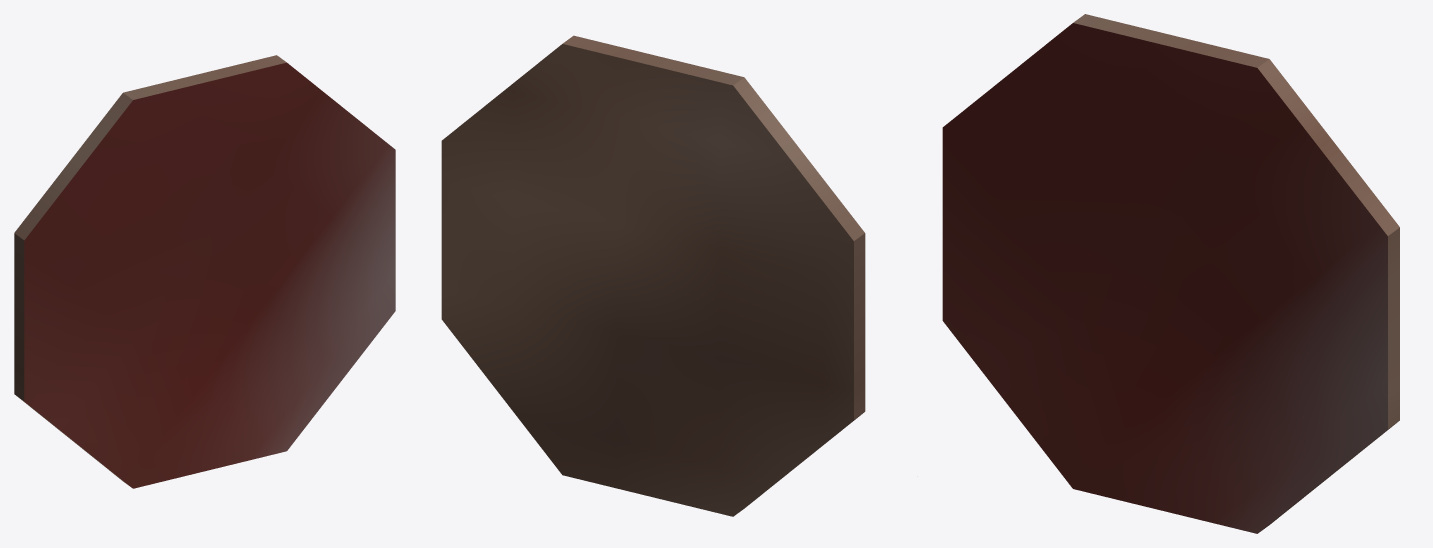
File: Schild_LOD0.dae
The picture shows the model from 3 angles, left to right: view 1: azimuth 30°, elevation 25°; view 2: azimuth 150°, elevation 25°; view 3: azimuth 330°, elevation 25°; orthographic projection. The views are drawn at different scales.
Visible parts, largest first — view 1: Schild_LOD0; view 2: Schild_LOD0; view 3: Schild_LOD0.
Part boxes in pixels (left/top/right/bottom): Schild_LOD0: left=14, top=55, right=395, bottom=488; Schild_LOD0: left=441, top=35, right=865, bottom=516; Schild_LOD0: left=942, top=14, right=1399, bottom=533.
Size of the model in its own units: 0.85 by 0.1356 by 0.85.
Materials: 1 (1 with a texture image).
